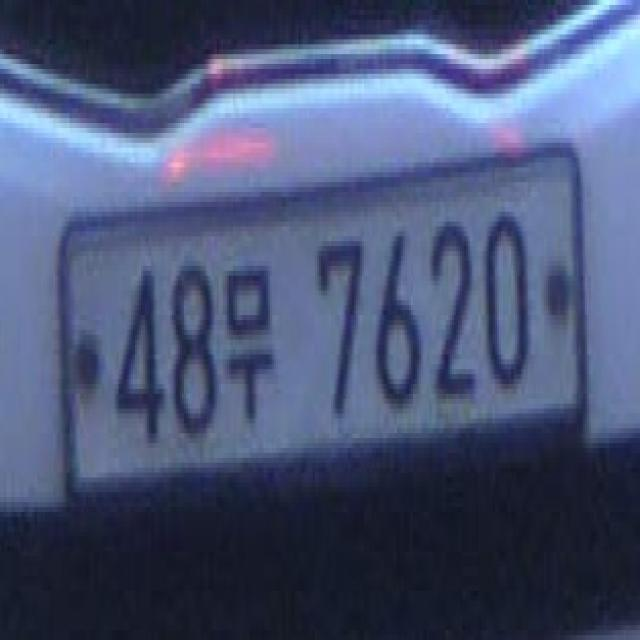0: (481, 199, 532, 410)
2: (428, 210, 479, 427)
4: (114, 256, 166, 465)
6: (372, 228, 424, 436)
7: (312, 230, 364, 442)
8: (169, 251, 218, 463)
license_plate: (46, 109, 607, 552)
mu: (222, 245, 278, 450)
